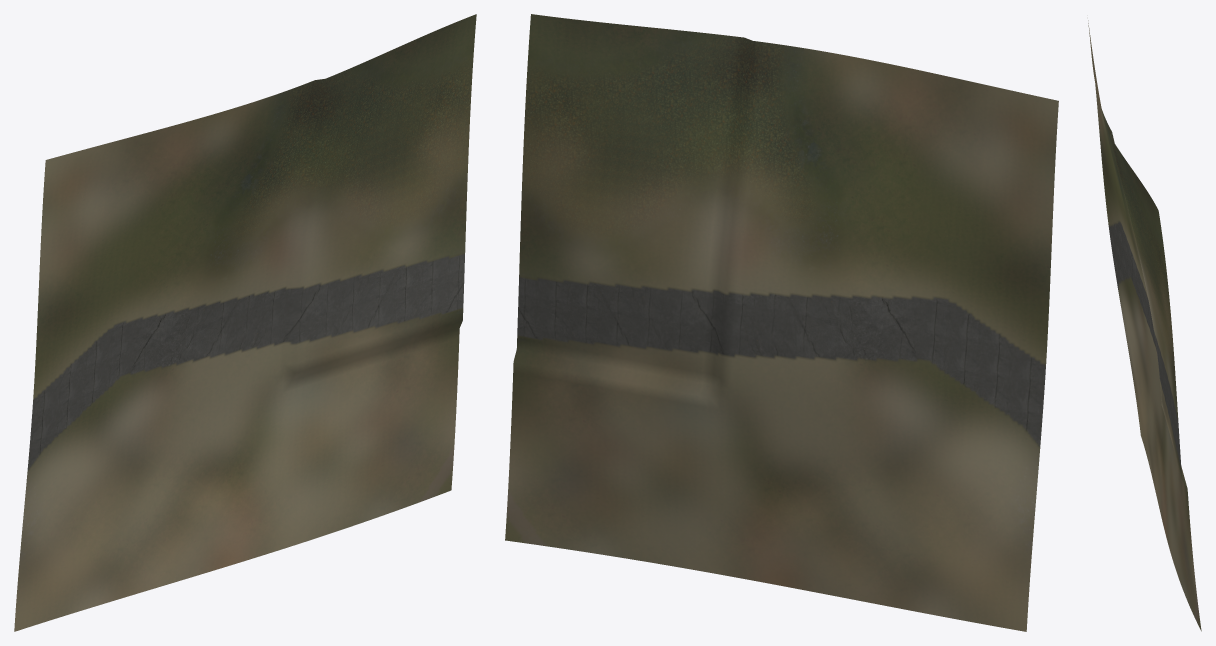
The model's file is ground_core_02_01.obj.
The picture shows the model from 3 angles, left to right: view 1: azimuth 30°, elevation 25°; view 2: azimuth 150°, elevation 25°; view 3: azimuth 270°, elevation 25°; orthographic projection. The views are drawn at different scales.
Parts seen in each view (by area): view 1: ground_core_02_01; view 2: ground_core_02_01; view 3: ground_core_02_01.
Boxes of the visible parts, x1,y1,x2,y2 form: ground_core_02_01: [14, 14, 476, 631]; ground_core_02_01: [505, 14, 1058, 631]; ground_core_02_01: [1088, 20, 1201, 631].
Bounding box in the file's own units: 50 × 50 × 12.3.
1 material, 1 textured.
